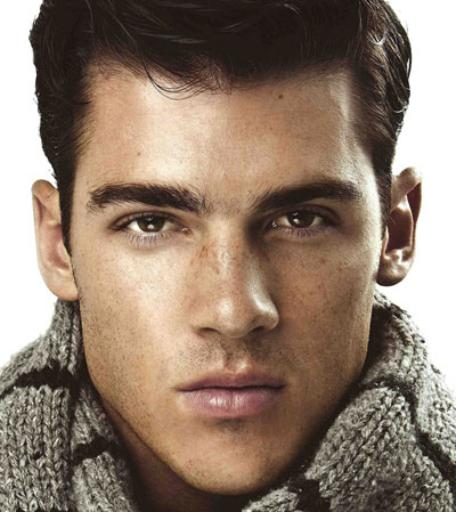left_eye: (267, 206, 340, 237)
left_lip_corner: (272, 376, 295, 398)
right_eye: (110, 207, 193, 241)
right_lip_corner: (169, 379, 195, 406)
